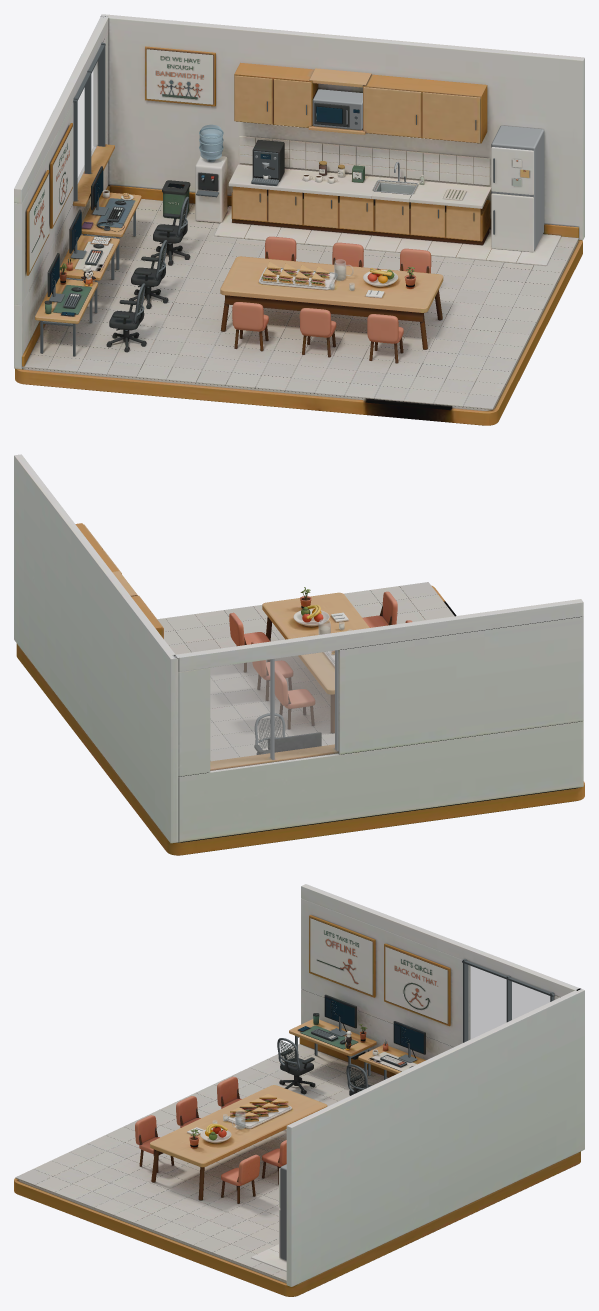
Rendered from corporate-office.glb.
3 renders of one model, top to bottom at view 1: azimuth 30°, elevation 25°; view 2: azimuth 150°, elevation 25°; view 3: azimuth 270°, elevation 25°, orthographic. The views are drawn at different scales.
Visible parts, largest first — view 1: Baked corporate-office architecture, Baked corporate-office details, Live glass and reflective metal; view 2: Baked corporate-office architecture, Baked corporate-office details, Live glass and reflective metal; view 3: Baked corporate-office architecture, Baked corporate-office details, Live glass and reflective metal.
Part boxes in pixels (bbox=[...]): Baked corporate-office architecture: bbox=[14, 14, 584, 425]; Baked corporate-office details: bbox=[21, 56, 578, 409]; Live glass and reflective metal: bbox=[40, 42, 544, 356]; Baked corporate-office architecture: bbox=[14, 454, 584, 855]; Baked corporate-office details: bbox=[157, 582, 454, 761]; Live glass and reflective metal: bbox=[210, 614, 351, 770]; Baked corporate-office architecture: bbox=[14, 884, 584, 1296]; Baked corporate-office details: bbox=[15, 959, 429, 1281]; Live glass and reflective metal: bbox=[194, 959, 554, 1260].
Bounding box in the file's own units: 22.35 × 7.32 × 22.13.
11 materials, 2 textured.
